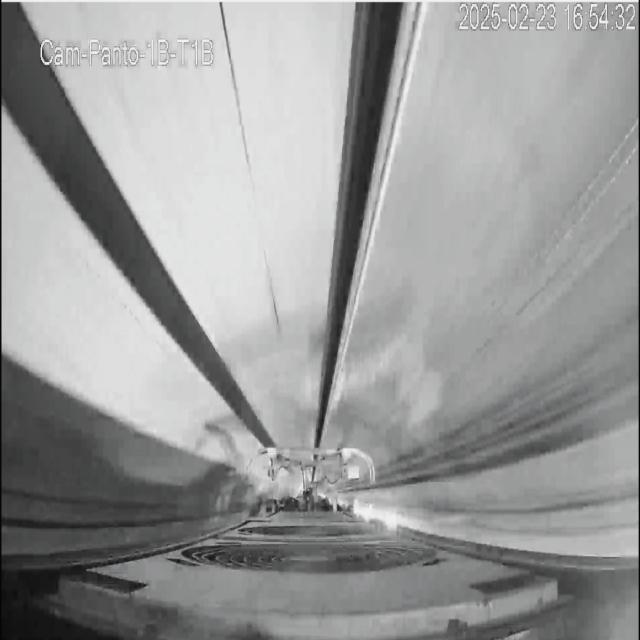Camera Stamp: (32, 28, 220, 73)
Date Stamp: (458, 3, 636, 33)
No - Spark: (247, 442, 377, 516), (239, 353, 324, 466)
